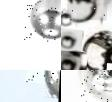ironball: (23, 0, 61, 40), (79, 26, 111, 70), (80, 70, 111, 101), (66, 0, 108, 18), (61, 26, 83, 55), (43, 70, 60, 101), (61, 49, 86, 70), (61, 6, 77, 31)
